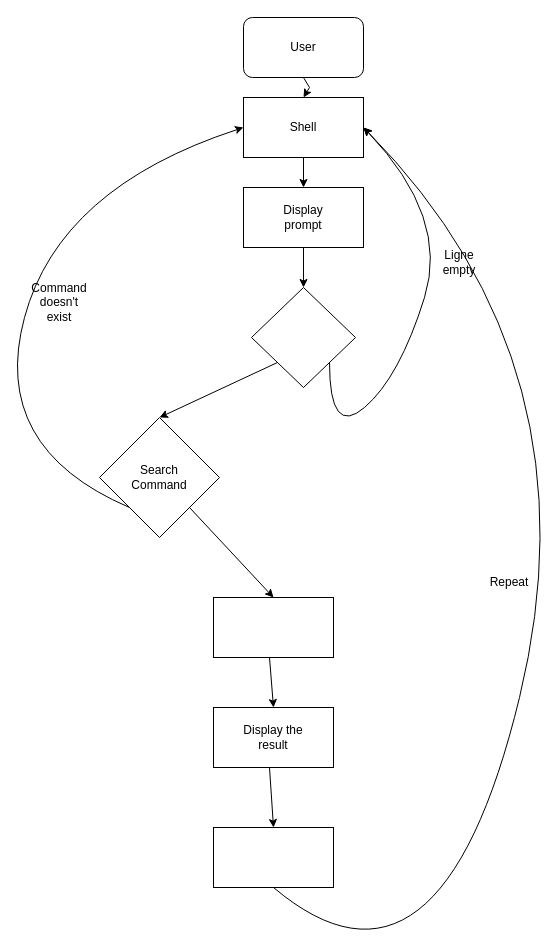
Some shapes in this 558 by 947 pixel diagram are drawn without their labels. The shapes that lost their labels are listed below. From the top down, each one's box as (x1, y1, x2, y2) in pixels, then its label:
(250, 286, 356, 388): Read and Check command
(212, 596, 334, 658): Execution
(212, 826, 334, 888): Clean
